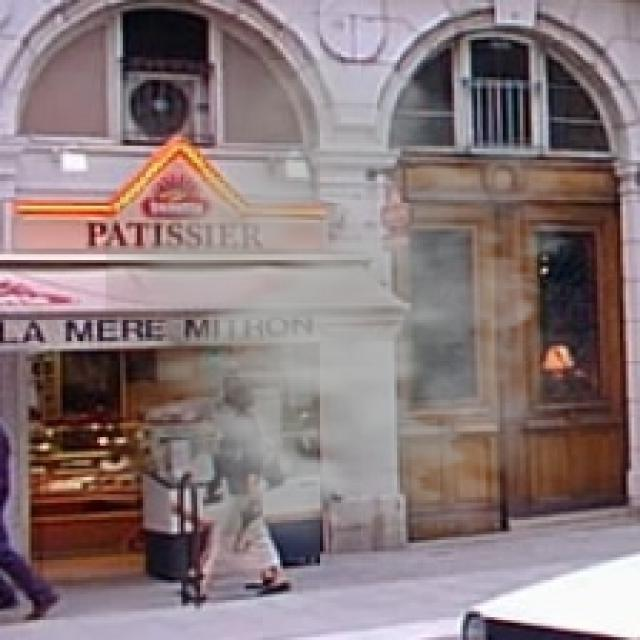Smoke: (106, 60, 628, 577)
